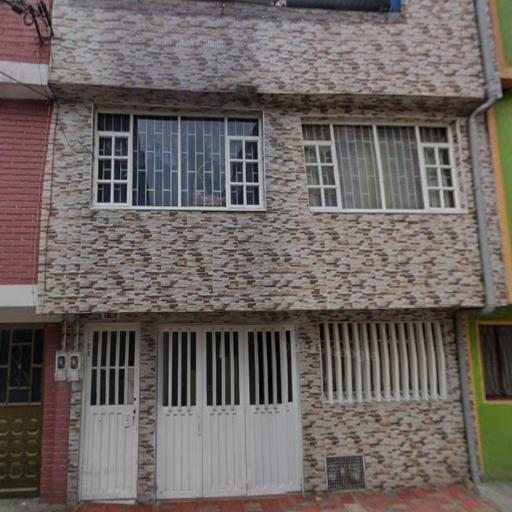Casa: (35, 0, 512, 512)
